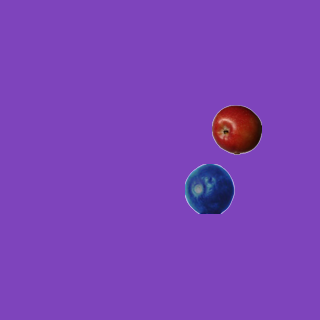Apple Braeburn: (211, 104, 261, 154)
Huckleberry: (184, 163, 234, 213)
